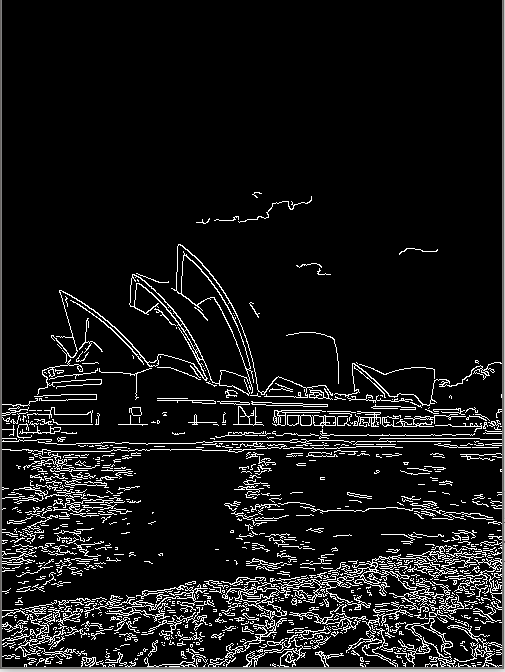opera house: (21, 236, 460, 436)
